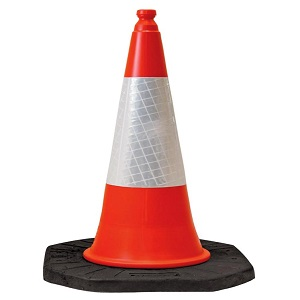traffic cone: (43, 9, 255, 293)
